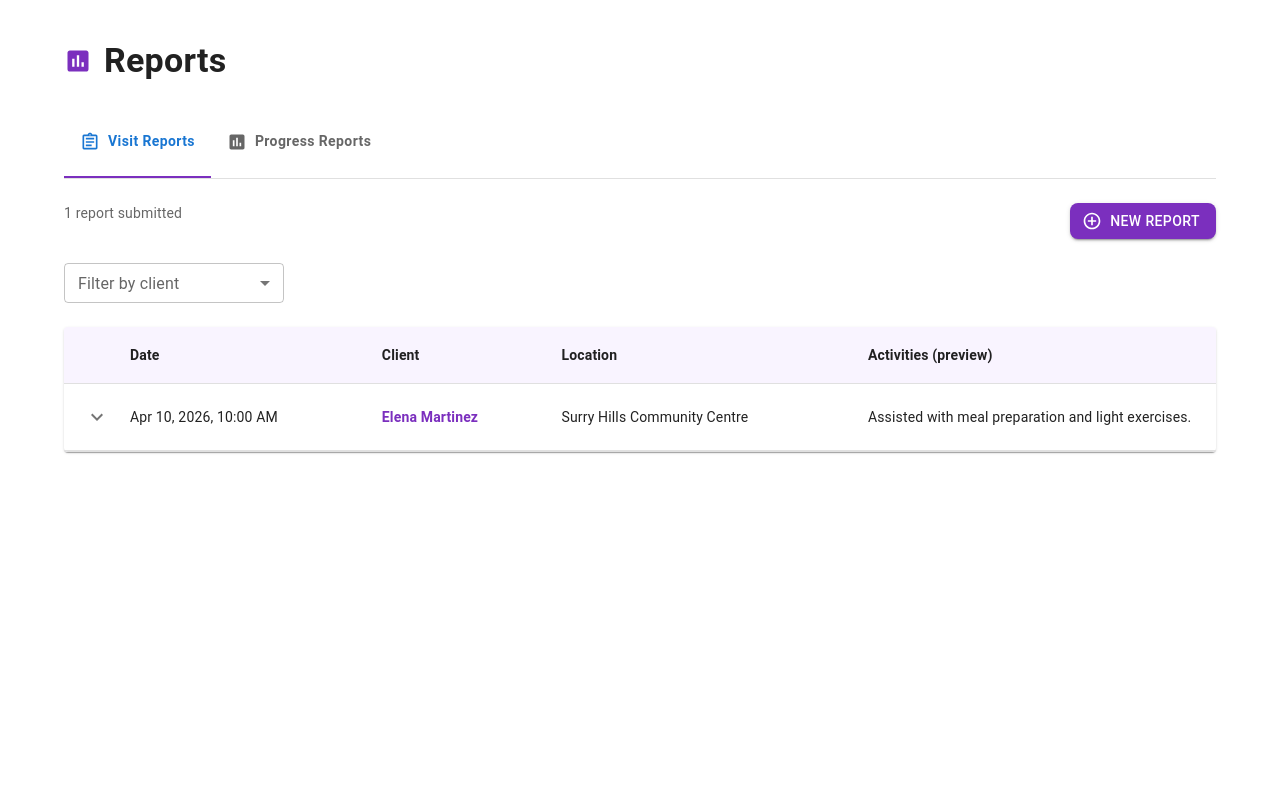
ReportsPage › expands row to show full report details on click
The image size is (1280, 800).
Expected: the text "Elena Martinez" is shown, [366, 384, 545, 451]
Click the 2nd button.
click(97, 418)  # box [80, 400, 114, 434]
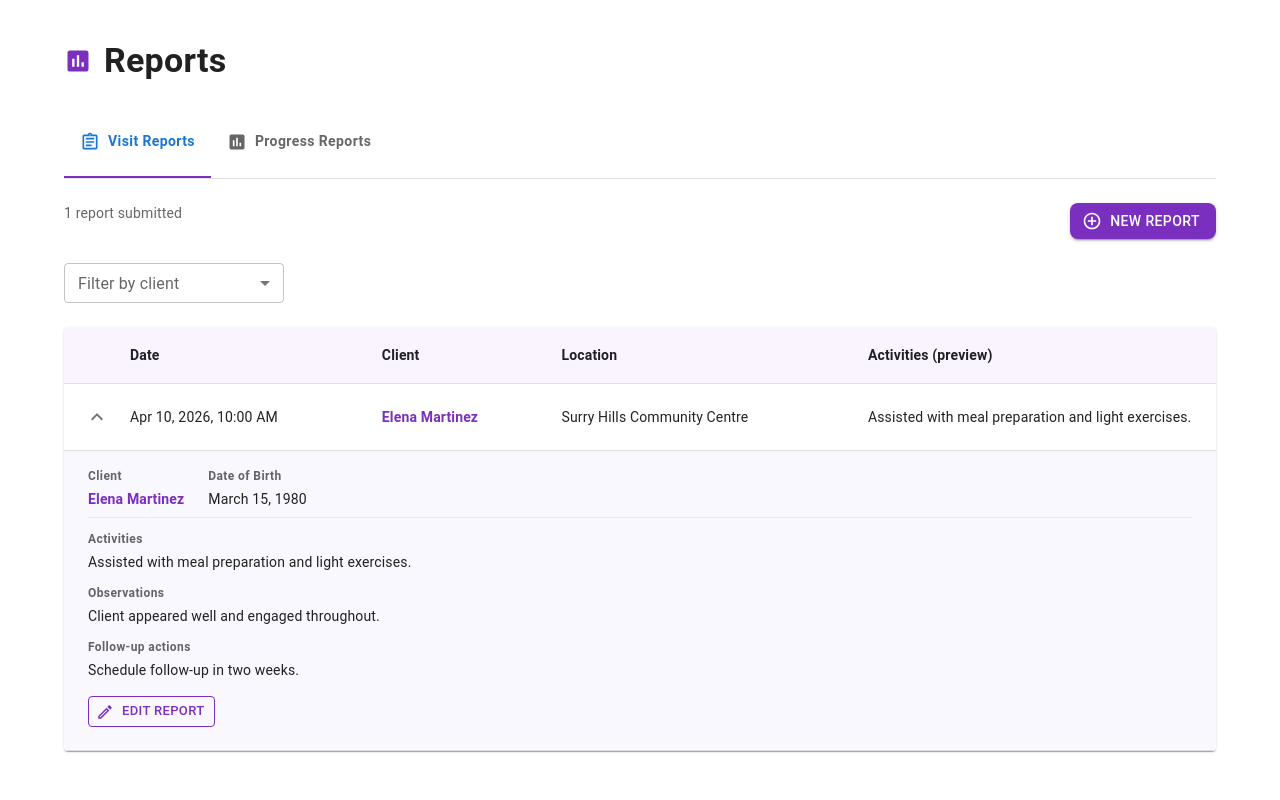
Expected: the text "Activities" is shown, [88, 532, 143, 546]
Expected: the text "Observations" is shown, [88, 586, 164, 600]
Expected: the text "Follow-up actions" is shown, [88, 640, 191, 654]
